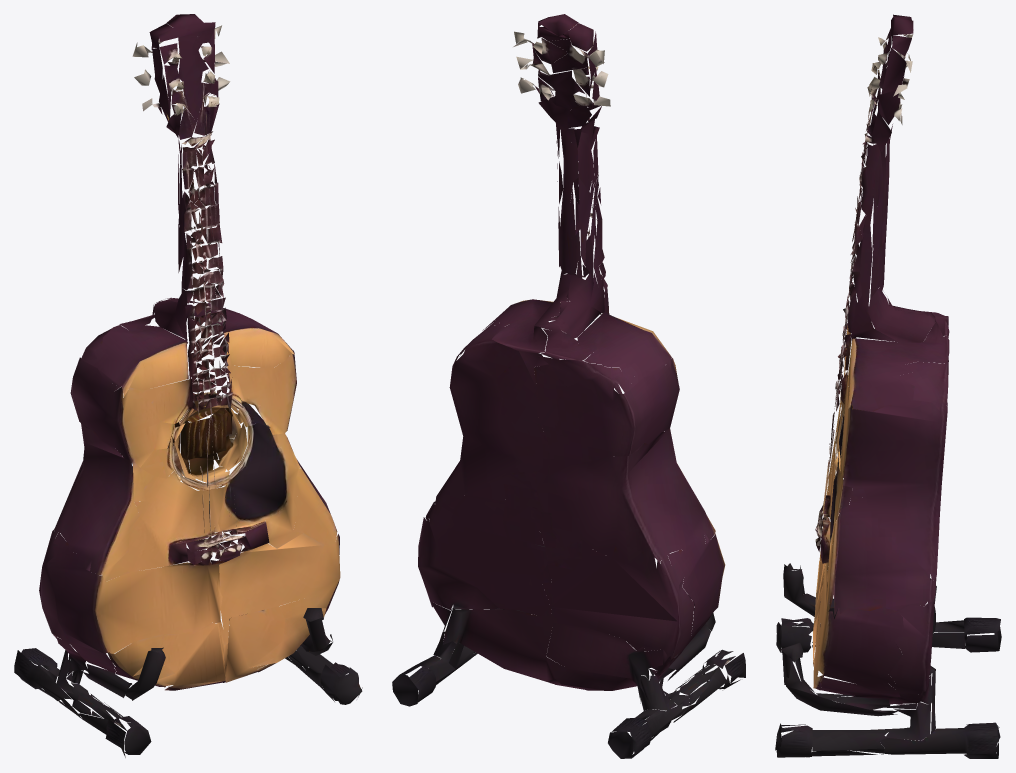
Rendered from guitar_on_stand.glb.
3 renders of one model, left to right at view 1: azimuth 30°, elevation 25°; view 2: azimuth 150°, elevation 25°; view 3: azimuth 270°, elevation 25°, orthographic. The views are drawn at different scales.
Visible parts, largest first — view 1: tripo_node_6145eae3-1291-4fe9-ada1-5ac461a0215e; view 2: tripo_node_6145eae3-1291-4fe9-ada1-5ac461a0215e; view 3: tripo_node_6145eae3-1291-4fe9-ada1-5ac461a0215e.
Part boxes in pixels (<box>): tripo_node_6145eae3-1291-4fe9-ada1-5ac461a0215e: <box>14,14,362,757</box>; tripo_node_6145eae3-1291-4fe9-ada1-5ac461a0215e: <box>392,14,745,758</box>; tripo_node_6145eae3-1291-4fe9-ada1-5ac461a0215e: <box>775,14,1001,758</box>.
Size of the model in its own units: 0.4214 by 1.05 by 0.3145.
Materials: 1 (1 with a texture image).
